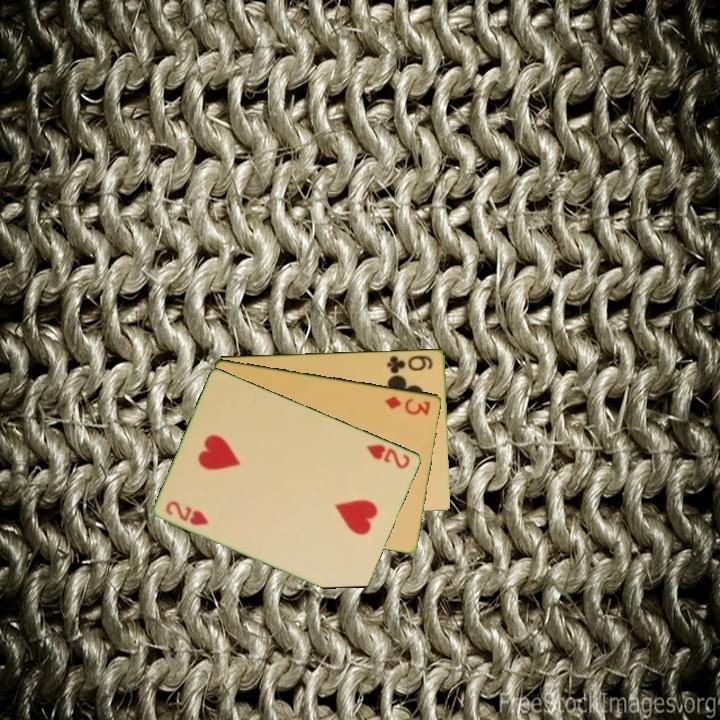2h: (363, 440, 413, 472), (162, 497, 212, 528)
3d: (381, 392, 433, 418)
6c: (384, 352, 436, 376)
